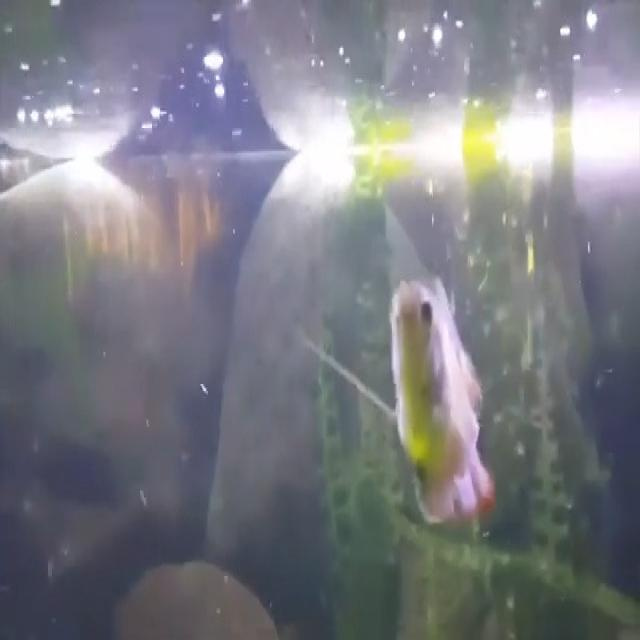fish: (387, 267, 498, 543)
